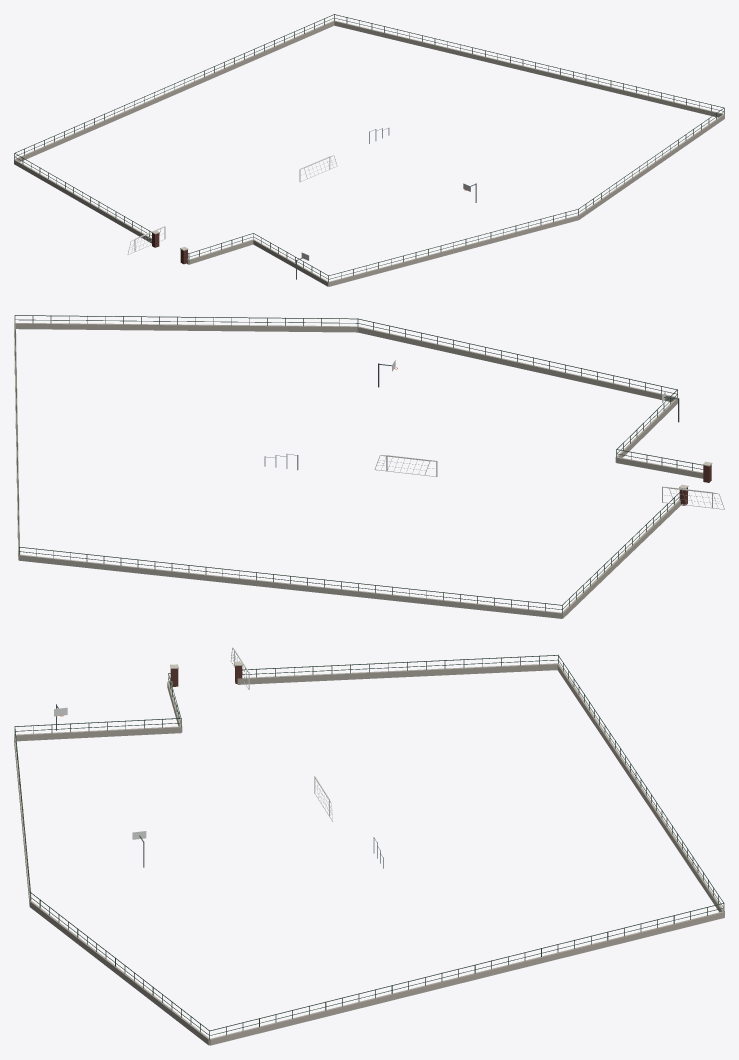
3 renders of one model, top to bottom at view 1: azimuth 30°, elevation 25°; view 2: azimuth 150°, elevation 25°; view 3: azimuth 270°, elevation 25°, orthographic. The views are drawn at different scales.
Parts seen in each view (by area): view 1: site-wall-concrete, site-fence; view 2: site-wall-concrete, site-fence, site-goal; view 3: site-wall-concrete, site-fence.
Boxes of the visible parts, bbox=[...] form: site-wall-concrete: bbox=[14, 20, 724, 286]; site-fence: bbox=[14, 14, 724, 282]; site-wall-concrete: bbox=[14, 323, 703, 618]; site-fence: bbox=[14, 315, 702, 612]; site-goal: bbox=[374, 455, 724, 509]; site-wall-concrete: bbox=[14, 663, 724, 1045]; site-fence: bbox=[14, 654, 724, 1039].
Size of the model in its own units: 118 by 4.28 by 92.55.
